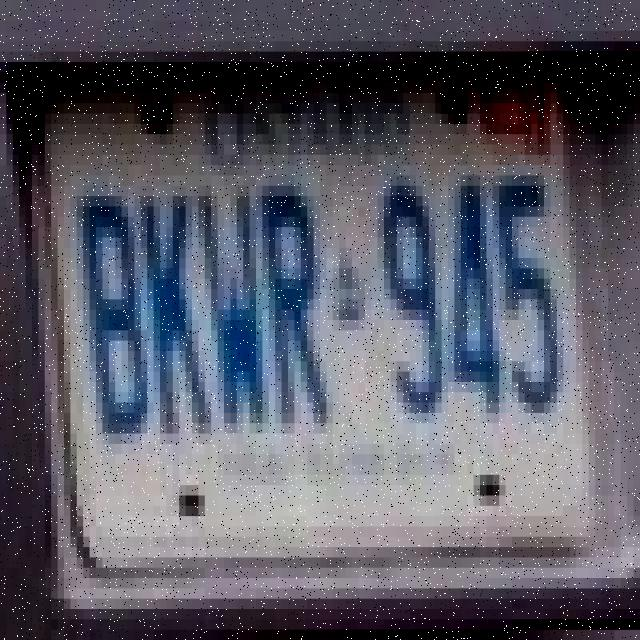licenseplate: (27, 45, 626, 620)
